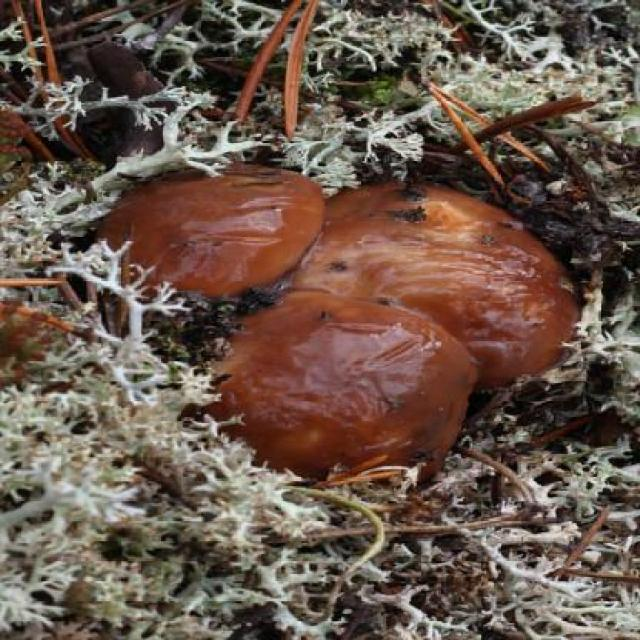Mushroom: (163, 291, 477, 504)
